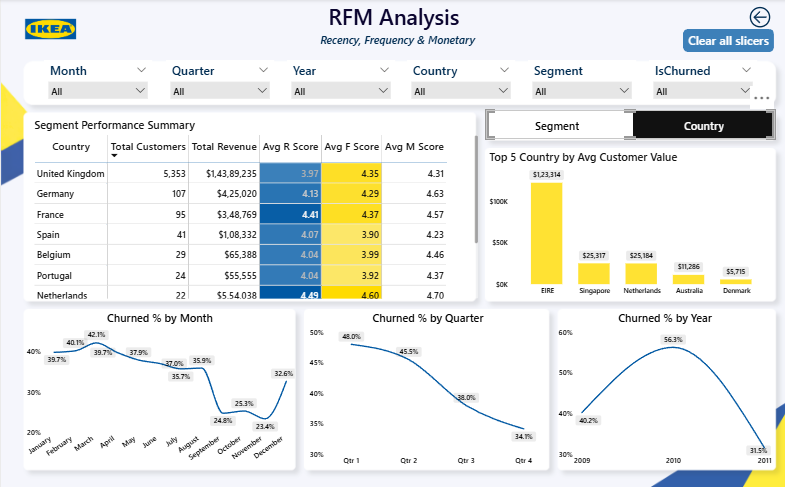

Layout of this report page (visuals, bound fields, positions):
{"tool":"powerbi","page":{"name":"RFM Analysis","canvas":[1750,1100],"ordinal":2},"visuals":[{"type":"slicer","fields":{"Values":["Sheet1.InvoiceDate.Variation.Date Hierarchy.Month"]},"box":[94.6,134.2,237.6,92.4],"z":0},{"type":"columnChart","title":"Segment by Avg Customer Value","fields":{"Category":["Sheet1.Segment"],"Y":["Meaure_Table.Avg Customer Value"]},"box":[1067,330,633.6,334.4],"z":0,"group":"g2"},{"type":"lineChart","title":"Churned % by Month","fields":{"Category":["Sheet1.InvoiceDate.Variation.Date Hierarchy.Month"],"Y":["Meaure_Table.Churned %"]},"box":[48.4,684.2,602.8,352],"z":0,"group":"g1"},{"type":"slicer","fields":{"Values":["Sheet1.InvoiceDate.Variation.Date Hierarchy.Quarter"]},"box":[362.6,134.2,237.6,92.4],"z":1000},{"type":"tableEx","title":"Segment Performance Summary","fields":{"Values":["Sheet1.Segment","Meaure_Table.Total Customers","Meaure_Table.Total Revenue","Avg(Sheet1.R_Score)","Avg(Sheet1.F_Score)","Avg(Sheet1.M_Score)"]},"box":[68.2,244.2,968,420.2],"z":1000,"group":"g2"},{"type":"lineChart","title":"Churned % by Quarter","fields":{"Category":["Sheet1.InvoiceDate.Variation.Date Hierarchy.Quarter"],"Y":["Meaure_Table.Churned %"]},"box":[673.2,684.2,532.4,352],"z":1000,"group":"g1"},{"type":"slicer","fields":{"Values":["Sheet1.InvoiceDate.Variation.Date Hierarchy.Year"]},"box":[628.3,134.2,237.6,92.4],"z":2000},{"type":"lineChart","title":"Churned % by Year","fields":{"Category":["Sheet1.InvoiceDate.Variation.Date Hierarchy.Year"],"Y":["Meaure_Table.Churned %"]},"box":[1221,684.2,479.6,352],"z":2000,"group":"g1"},{"type":"slicer","fields":{"Values":["Sheet1.Country"]},"box":[894.1,134.2,237.6,92.4],"z":3000},{"type":"slicer","fields":{"Values":["Sheet1.Segment"]},"box":[1159.8,134.2,237.6,92.4],"z":4000},{"type":"slicer","fields":{"Values":["Sheet1.IsChurned"]},"box":[1425.6,134.2,237.6,92.4],"z":5000},{"type":"group","id":"g1","title":"Customers","box":[48.4,684.2,1652.2,352],"z":6000},{"type":"bookmarkNavigator","box":[1065.9,243.2,636.4,65.9],"z":8000},{"type":"image","box":[28.6,17.6,160.6,96.8],"z":9000},{"type":"textbox","box":[714.4,0,321.2,88],"z":10000},{"type":"textbox","box":[697.4,68.2,356.4,48.4],"z":11000},{"type":"actionButton","box":[1636.8,11,66,55],"z":12000},{"type":"actionButton","box":[1500.4,66,200.2,50.6],"z":13000},{"type":"shape","box":[149.6,310.2,165,332.2],"z":14000},{"type":"group","id":"g2","title":"Segment2","box":[68.2,244.2,1632.4,420.2],"z":16000}]}

Visuals, with their boxes in screenshot pixels (x1, y1, x2, y2), scaled from the page's 1750x1100 canvas onto the 785x487 screenshot:
slicer - Sheet1.InvoiceDate.Variation.Date Hierarchy.Month: (42,59,149,100)
"Segment by Avg Customer Value" columnChart: (479,146,763,294)
"Churned % by Month" lineChart: (22,303,292,459)
slicer - Sheet1.InvoiceDate.Variation.Date Hierarchy.Quarter: (163,59,269,100)
"Segment Performance Summary" tableEx: (31,108,465,294)
"Churned % by Quarter" lineChart: (302,303,541,459)
slicer - Sheet1.InvoiceDate.Variation.Date Hierarchy.Year: (282,59,388,100)
"Churned % by Year" lineChart: (548,303,763,459)
slicer - Sheet1.Country: (401,59,508,100)
slicer - Sheet1.Segment: (520,59,627,100)
slicer - Sheet1.IsChurned: (639,59,746,100)
"Customers" group: (22,303,763,459)
bookmarkNavigator: (478,108,764,137)
image: (13,8,85,51)
textbox: (320,0,465,39)
textbox: (313,30,473,52)
actionButton: (734,5,764,29)
actionButton: (673,29,763,52)
shape: (67,137,141,284)
"Segment2" group: (31,108,763,294)
